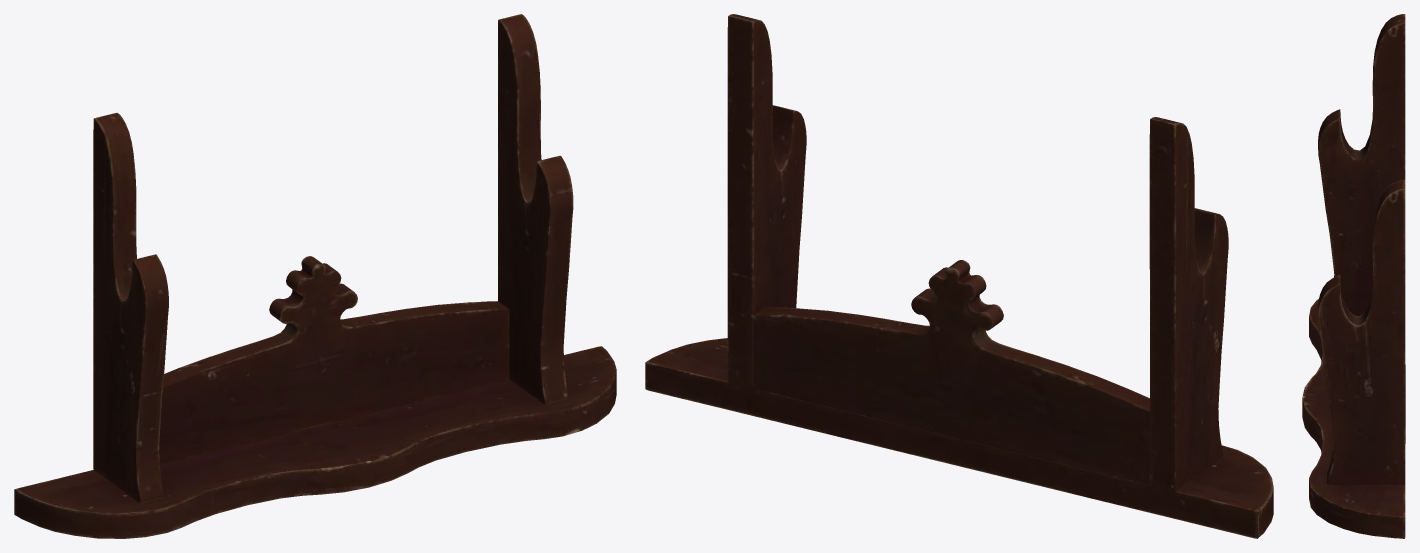
File: katana_stand.glb
The picture shows the model from 3 angles, left to right: view 1: azimuth 30°, elevation 25°; view 2: azimuth 150°, elevation 25°; view 3: azimuth 270°, elevation 25°; orthographic projection. The views are drawn at different scales.
Visible parts, largest first — view 1: katana_stand_01; view 2: katana_stand_01; view 3: katana_stand_01.
Part boxes in pixels (box(x1,y1,x2,y2)): katana_stand_01: box(14, 14, 616, 538); katana_stand_01: box(645, 14, 1273, 538); katana_stand_01: box(1302, 14, 1405, 538).
Size of the model in its own units: 0.2958 by 0.182 by 0.0535.
Materials: 1 (1 with a texture image).
